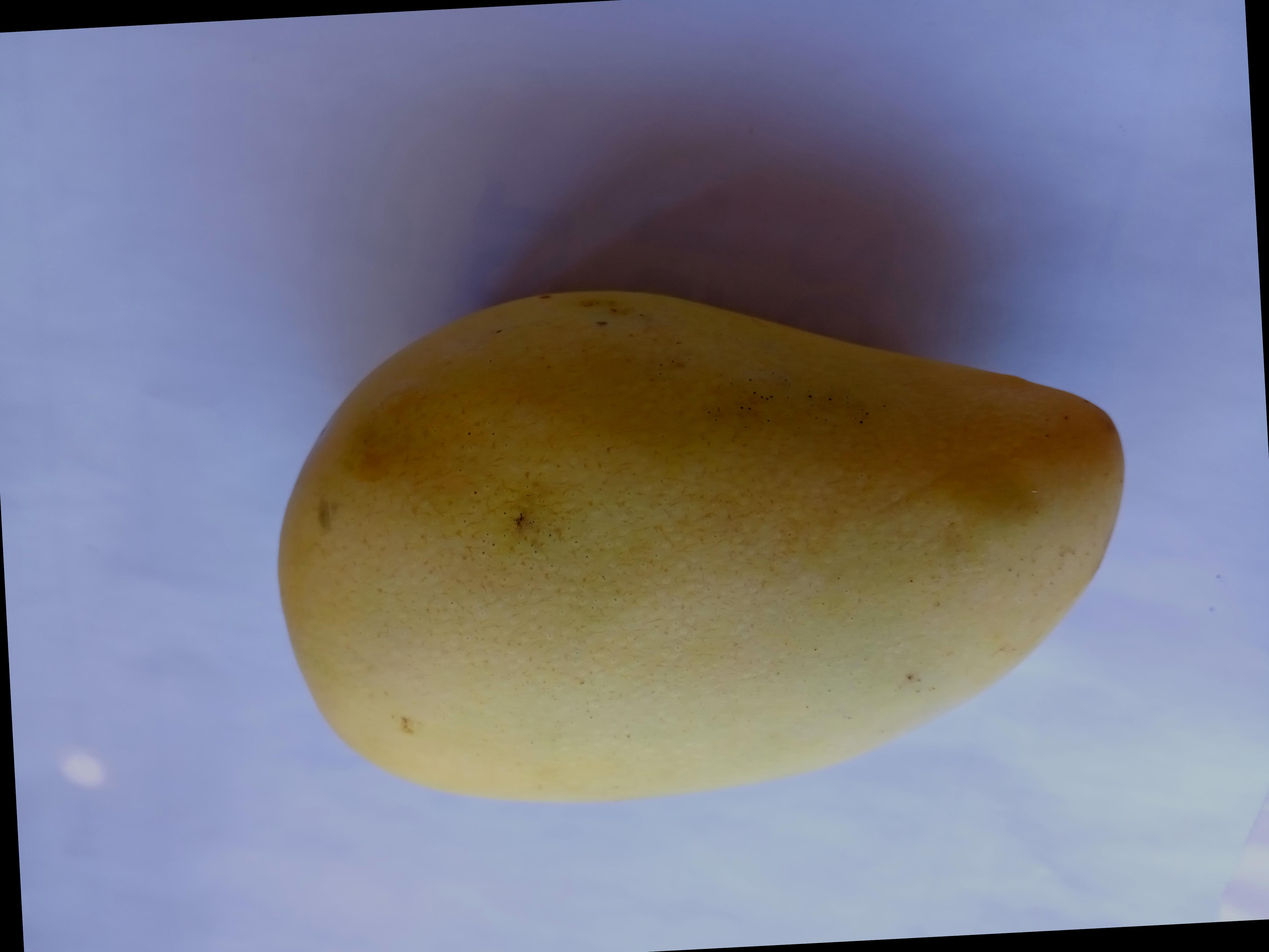Mango Ripe: (172, 292, 1126, 912)
